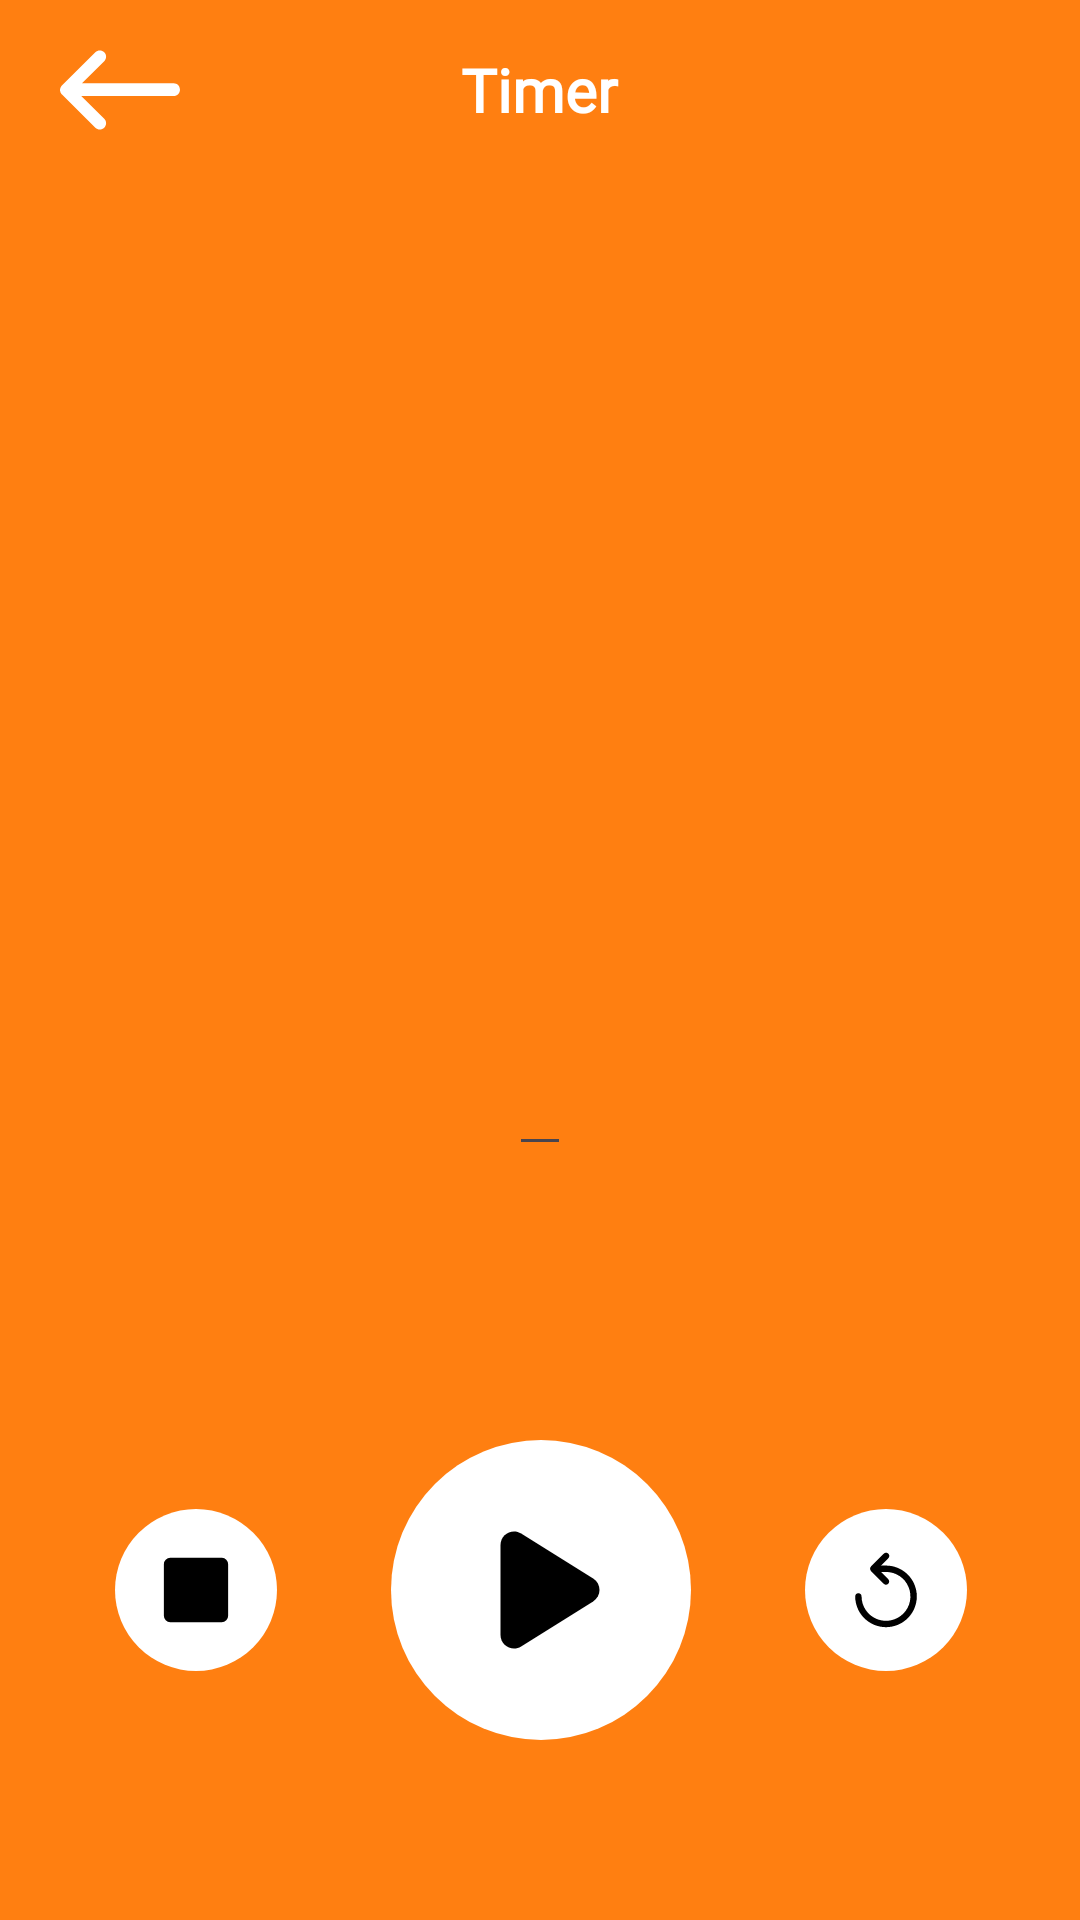

Screen size 1080w x 1920h. Icon name, then its box in pixels as (x1, y1, x2, y2):
leftarrow: (60, 50, 180, 130)
restart: (805, 1509, 967, 1671)
stop: (115, 1509, 277, 1671)
unpause: (391, 1440, 691, 1740)
